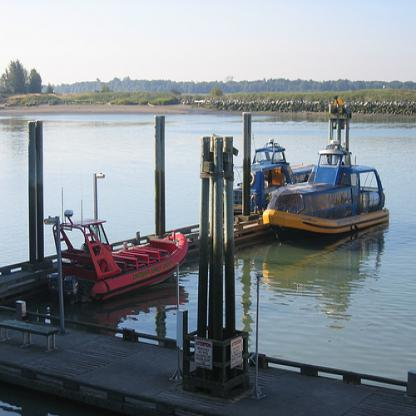boat: (259, 96, 390, 245), (42, 213, 190, 303), (234, 139, 318, 214)
